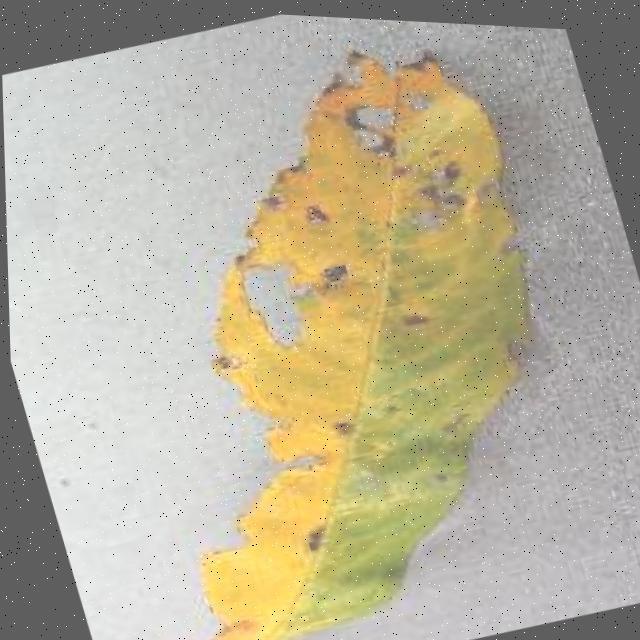Bacterial_spot: (410, 157, 476, 218), (288, 510, 345, 572), (316, 395, 369, 453), (386, 293, 439, 345), (304, 248, 355, 302), (424, 142, 468, 193), (295, 182, 340, 228)
